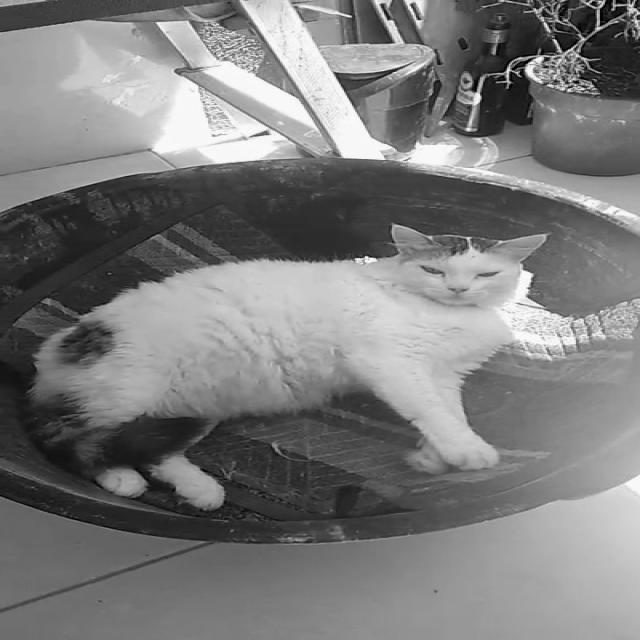Simba: (22, 208, 570, 530)
